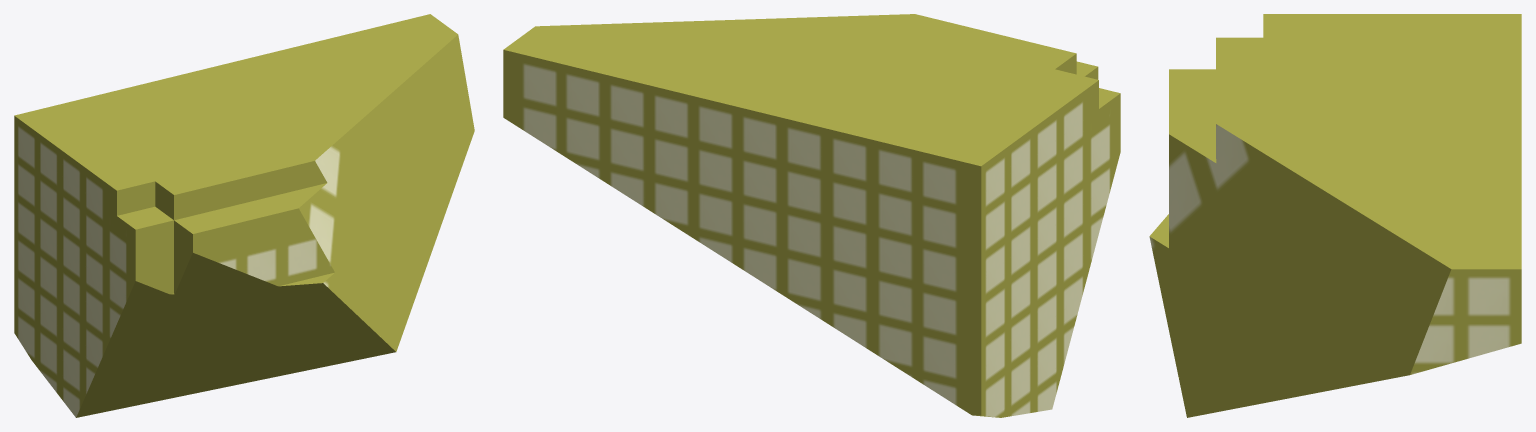
File: r2Shard5.fbx
The picture shows the model from 3 angles, left to right: view 1: azimuth 30°, elevation 25°; view 2: azimuth 150°, elevation 25°; view 3: azimuth 270°, elevation 25°; orthographic projection. The views are drawn at different scales.
Parts seen in each view (by area): view 1: shard45; view 2: shard45; view 3: shard45.
Boxes of the visible parts, x1,y1,x2,y2 form: shard45: (14,14,474,417); shard45: (503,14,1120,417); shard45: (1149,14,1521,417).
Bounding box in the file's own units: 0.1923 × 0.1135 × 0.1185.
Materials: 1 (1 with a texture image).
